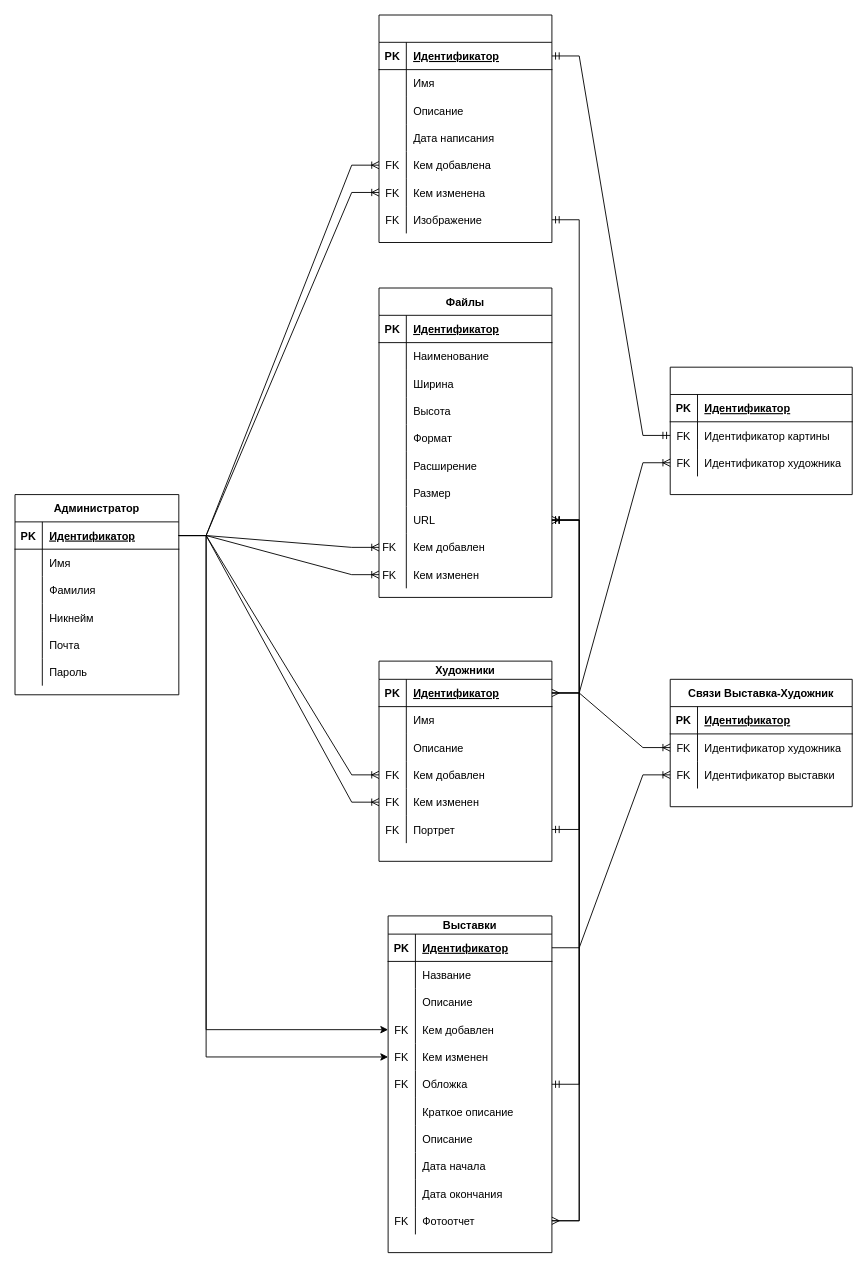
The diagram is 867 pixels wide and 1268 high, and some of its shapes have lost their labels. Here are the shapes that lost their labels. From the top down, the box of each, then its label:
(378, 14, 552, 243): Картины
(669, 366, 852, 495): Связи Картина-Художник
